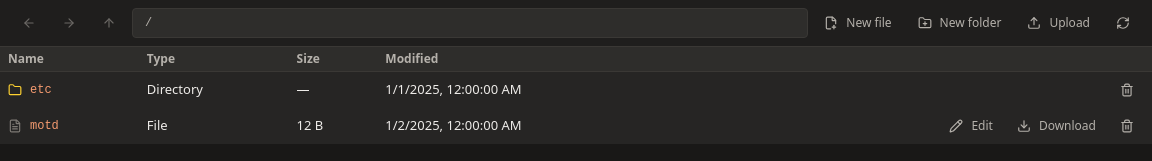
it: FilesTab › navigates into a directory
The image size is (1152, 161).
Step 1. Click the button with test id "file-row-etc" → (41, 90), box [30,82,52,98]
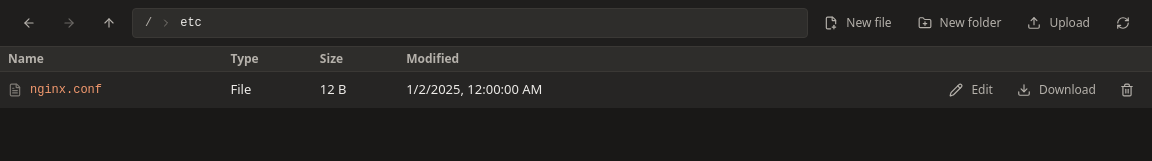
Expected: the button with test id "crumb-0" reads "etc", [176,15,206,31]
Now the button with test id "file-row-nginx.conf" is shown, box [30,82,102,98]
